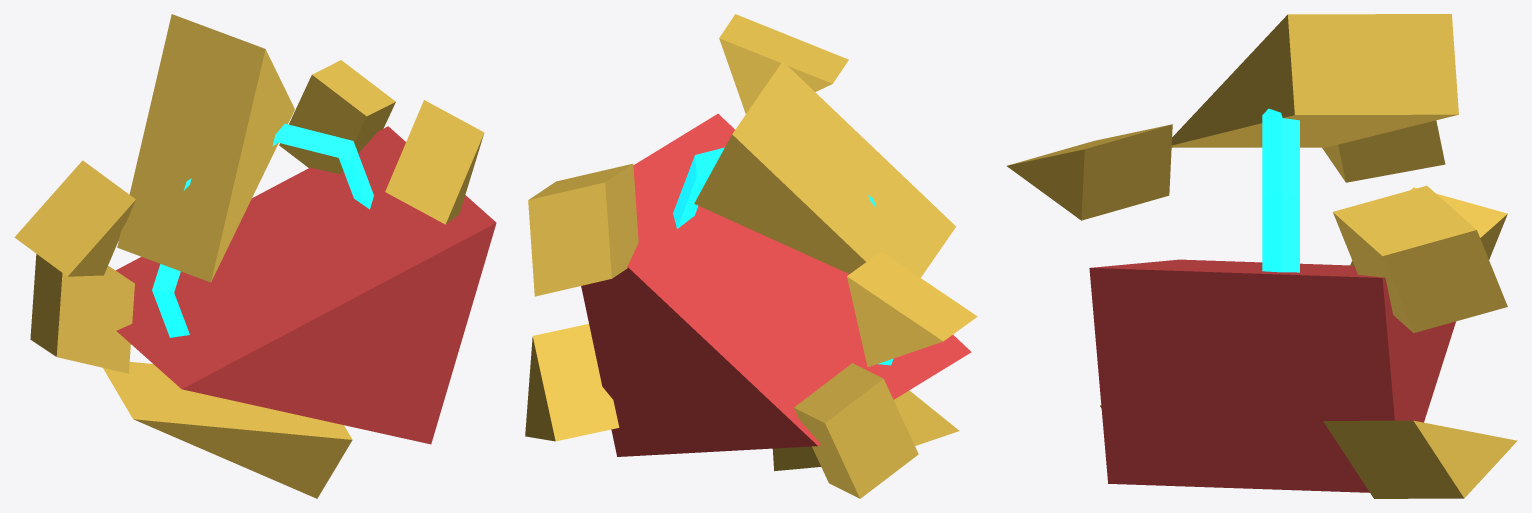
File: damage_effect__damaged.glb
The picture shows the model from 3 angles, left to right: view 1: azimuth 30°, elevation 25°; view 2: azimuth 150°, elevation 25°; view 3: azimuth 270°, elevation 25°; orthographic projection. The views are drawn at different scales.
Visible parts, largest first — view 1: ROLE_warning, ROLE_critical, ROLE_interaction; view 2: ROLE_warning, ROLE_critical, ROLE_interaction; view 3: ROLE_warning, ROLE_critical, ROLE_interaction.
Part boxes in pixels (left/top/right/bottom): ROLE_warning: left=14, top=14, right=484, bottom=498; ROLE_critical: left=116, top=126, right=496, bottom=444; ROLE_interaction: left=152, top=123, right=373, bottom=337; ROLE_warning: left=525, top=14, right=977, bottom=498; ROLE_critical: left=581, top=114, right=971, bottom=456; ROLE_interaction: left=673, top=147, right=893, bottom=365; ROLE_warning: left=1007, top=14, right=1517, bottom=498; ROLE_critical: left=1089, top=259, right=1455, bottom=492; ROLE_interaction: left=1262, top=108, right=1299, bottom=272.
Bounding box in the file's own units: 4 × 4 × 4.
